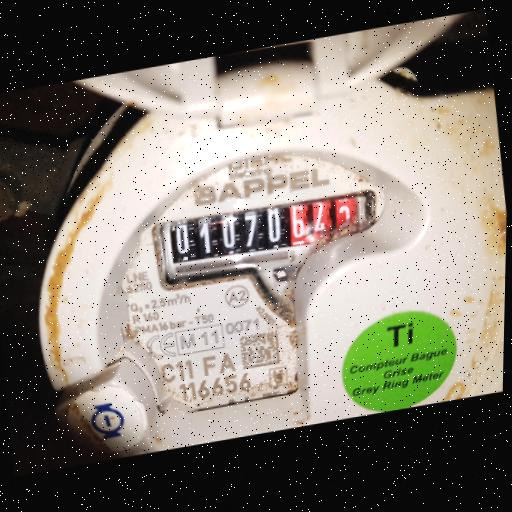0: (215, 211, 245, 258), (260, 204, 290, 251), (170, 217, 198, 263)
1: (193, 214, 217, 259)
2: (331, 194, 361, 240)
4: (306, 197, 334, 244)
6: (286, 200, 312, 247)
7: (238, 207, 267, 253)
border_water_meter_number: (160, 187, 373, 285)
